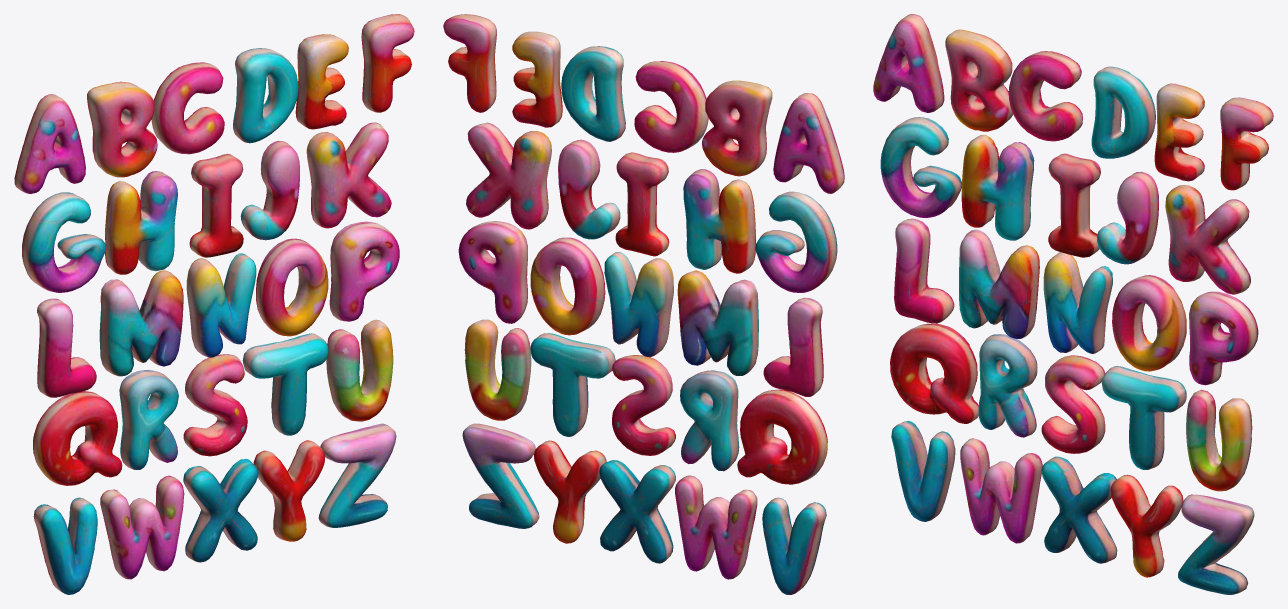
The picture shows the model from 3 angles, left to right: view 1: azimuth 30°, elevation 25°; view 2: azimuth 150°, elevation 25°; view 3: azimuth 330°, elevation 25°; orthographic projection.
Visible parts, largest first — view 1: Mesh 7, Mesh 3, Mesh 22, Mesh 9, Mesh 8, Mesh 2, Mesh 6, Mesh 14, Mesh 24, Mesh 23, Mesh 20, Mesh 12 (+14 smaller); view 2: Mesh 7, Mesh 3, Mesh 22, Mesh 9, Mesh 8, Mesh 2, Mesh 14, Mesh 20, Mesh 23, Mesh 6, Mesh 24, Mesh 12 (+14 smaller); view 3: Mesh 7, Mesh 3, Mesh 22, Mesh 9, Mesh 8, Mesh 6, Mesh 2, Mesh 14, Mesh 20, Mesh 24, Mesh 12, Mesh 10 (+14 smaller).
Part boxes in pixels (x1,y1,x2,y2): Mesh 7: [99, 270, 183, 376]; Mesh 3: [33, 391, 122, 485]; Mesh 22: [306, 122, 391, 228]; Mesh 9: [105, 171, 177, 274]; Mesh 8: [100, 475, 184, 579]; Mesh 2: [22, 192, 105, 292]; Mesh 6: [87, 81, 157, 177]; Mesh 14: [186, 253, 256, 357]; Mesh 24: [326, 319, 393, 421]; Mesh 23: [318, 423, 396, 527]; Mesh 20: [256, 238, 328, 336]; Mesh 12: [183, 459, 258, 562]; Mesh 7: [677, 270, 758, 375]; Mesh 3: [737, 389, 827, 484]; Mesh 22: [466, 122, 551, 229]; Mesh 9: [683, 169, 755, 273]; Mesh 8: [675, 475, 757, 579]; Mesh 2: [755, 191, 837, 292]; Mesh 14: [604, 252, 673, 357]; Mesh 20: [530, 237, 605, 335]; Mesh 23: [462, 423, 539, 528]; Mesh 6: [702, 80, 772, 176]; Mesh 24: [464, 319, 531, 420]; Mesh 12: [599, 460, 675, 563]; Mesh 7: [959, 229, 1039, 338]; Mesh 3: [890, 323, 978, 423]; Mesh 22: [1165, 185, 1250, 294]; Mesh 9: [961, 135, 1034, 240]; Mesh 8: [960, 438, 1042, 543]; Mesh 6: [945, 29, 1013, 131]; Mesh 2: [880, 117, 961, 217]; Mesh 14: [1043, 252, 1112, 353]; Mesh 20: [1112, 275, 1186, 371]; Mesh 24: [1186, 389, 1252, 491]; Mesh 12: [1041, 456, 1117, 563]; Mesh 10: [978, 334, 1037, 437].
Size of the model in its own units: 1.56 by 1.9 by 0.1138.
26 materials, 26 textured.
